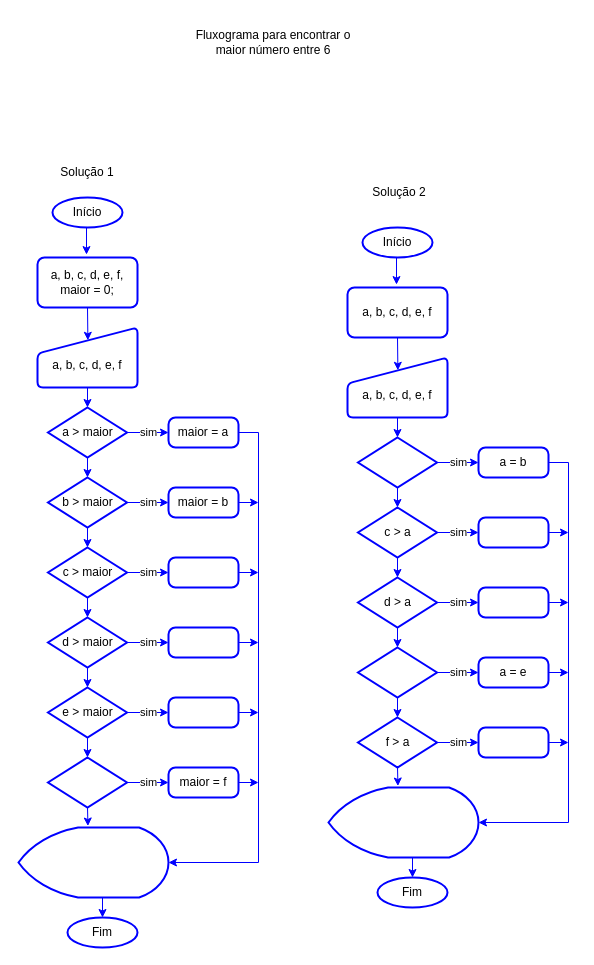
The diagram is 594 pixels wide and 965 high, and some of its shapes have lost their labels. Each missing label, with the box of its shape:
"O maior número é " + maior: (17, 826, 169, 898)
"O maior número é %d ", a: (327, 786, 479, 858)
a = c: (477, 516, 549, 548)
a = d: (477, 586, 549, 618)
a = f: (477, 726, 549, 758)
b > a: (356, 436, 438, 488)
e > a: (356, 646, 438, 698)
f > maior: (46, 756, 128, 808)
maior = c: (167, 556, 239, 588)
maior = d: (167, 626, 239, 658)
maior = e: (167, 696, 239, 728)
